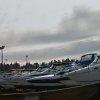Boat: (23, 58, 96, 88)
